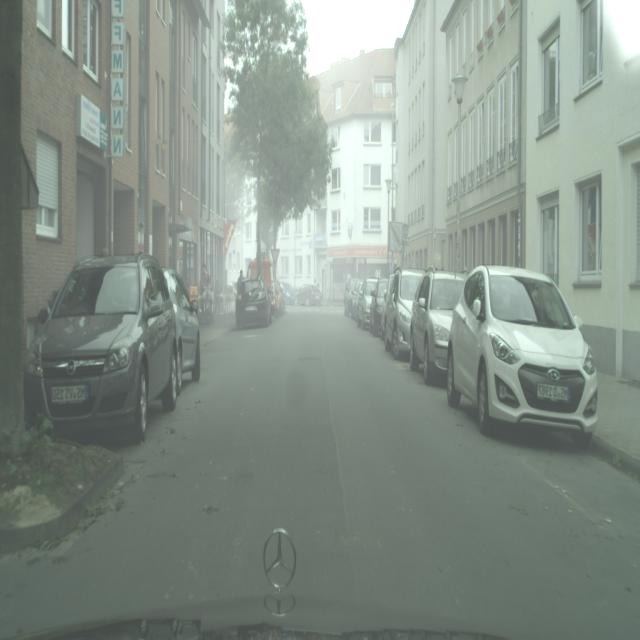truck: (24, 253, 179, 444), (445, 264, 599, 444), (409, 268, 468, 386), (162, 266, 201, 390), (382, 269, 424, 361), (235, 276, 272, 329), (355, 278, 378, 329), (370, 279, 389, 336), (345, 278, 362, 319), (294, 283, 323, 306), (280, 282, 296, 306)
